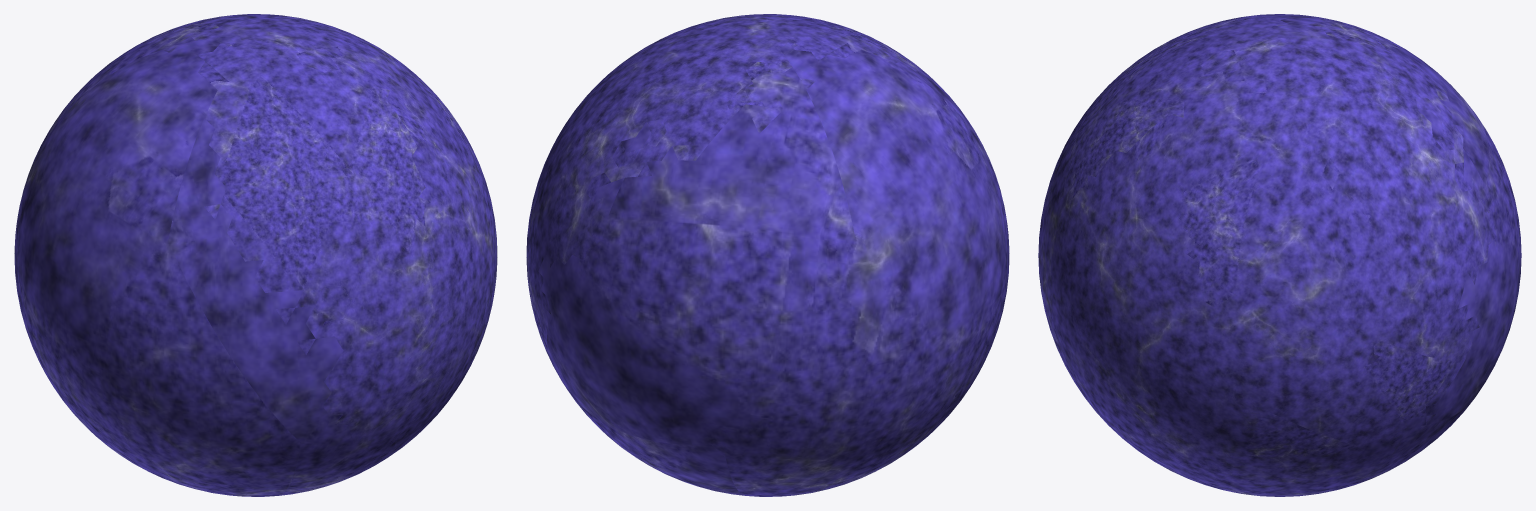
The model's file is hero_planet.gltf.
3 views of the same model, side by side, from view 1: azimuth 30°, elevation 25°; view 2: azimuth 150°, elevation 25°; view 3: azimuth 270°, elevation 25° (orthographic).
Visible parts, largest first — view 1: Icosphere; view 2: Icosphere; view 3: Icosphere.
Part boxes in pixels (x1,y1,x2,y2): Icosphere: [14, 14, 497, 496]; Icosphere: [526, 14, 1009, 496]; Icosphere: [1038, 14, 1521, 496].
Bounding box in the file's own units: 2 × 2 × 2.
1 material, 1 textured.
